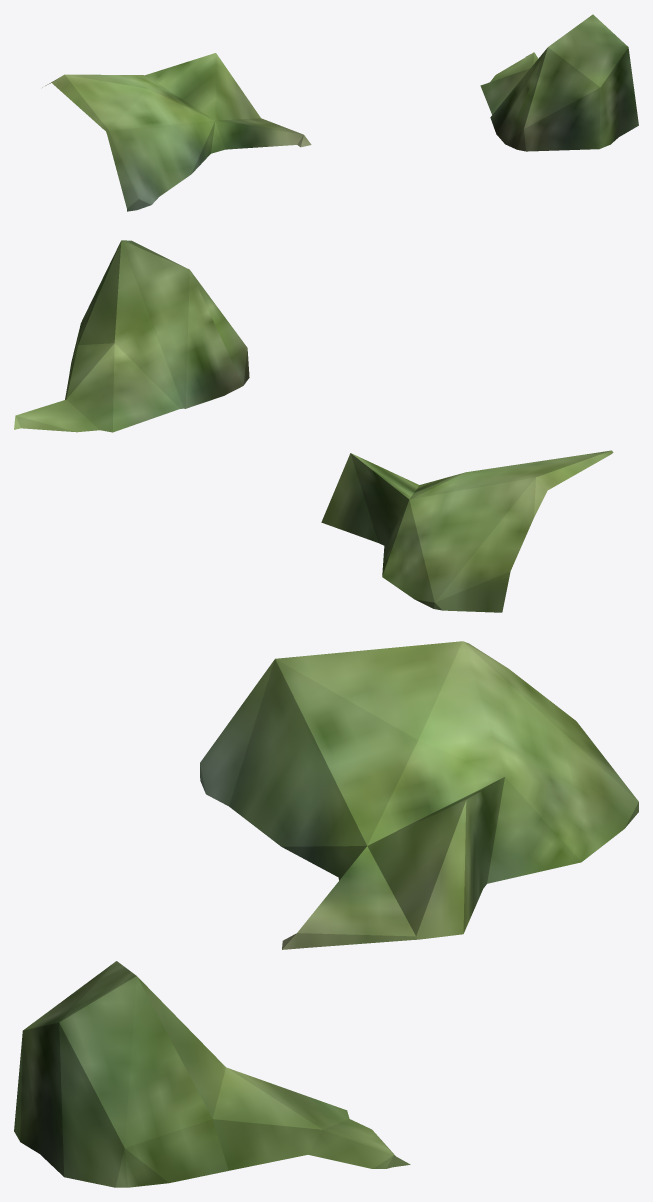
3 views of the same model, one above another, from view 1: azimuth 30°, elevation 25°; view 2: azimuth 150°, elevation 25°; view 3: azimuth 270°, elevation 25° (orthographic). The views are drawn at different scales.
Size of the model in its own units: 6.79 by 1.37 by 4.32.
1 material, 1 textured.
